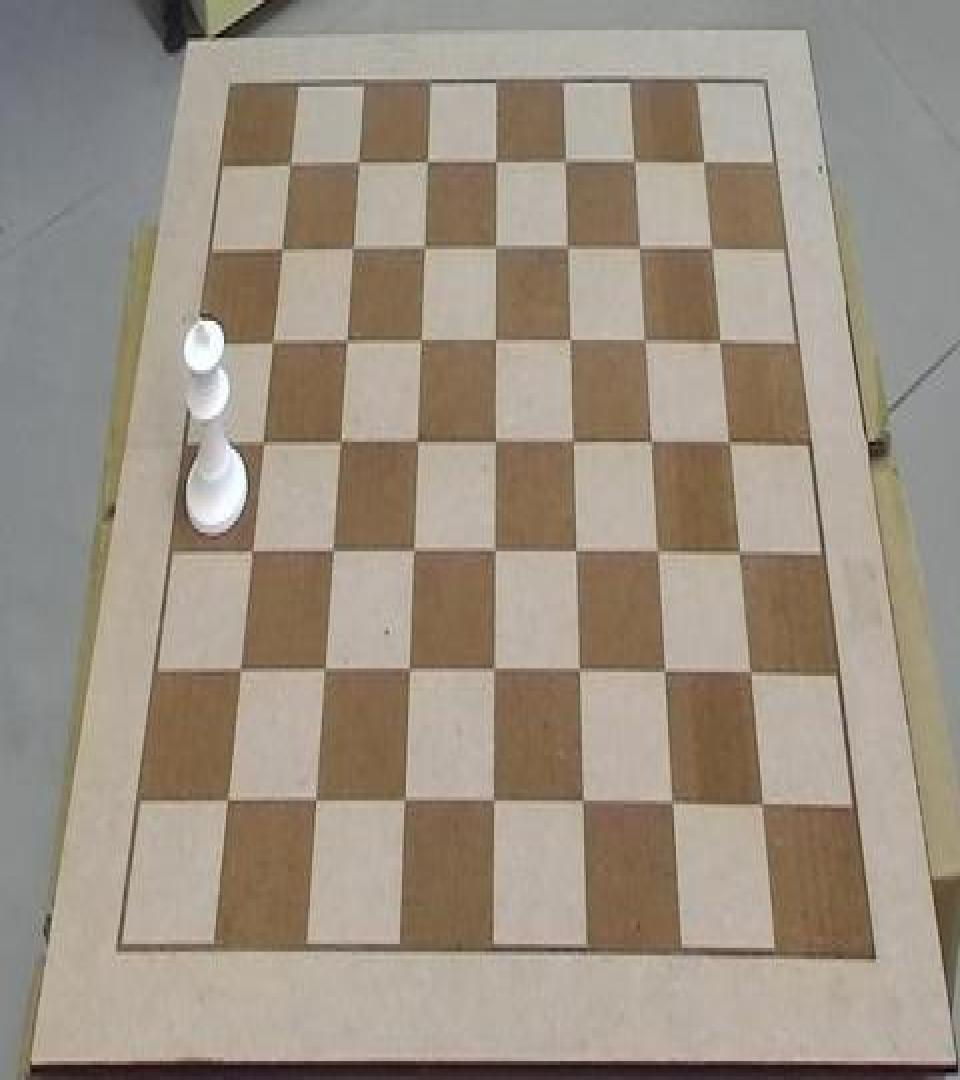xcorner: (691, 139, 711, 178), (622, 139, 642, 178), (553, 142, 573, 180), (484, 142, 504, 180), (415, 144, 435, 182), (347, 144, 367, 182), (279, 146, 299, 184), (699, 224, 719, 262), (627, 226, 647, 264), (555, 226, 575, 264), (484, 226, 504, 264), (412, 228, 432, 266), (342, 228, 362, 266), (271, 230, 291, 268), (708, 317, 728, 355), (633, 319, 653, 357), (558, 319, 578, 357), (483, 319, 503, 357), (409, 321, 429, 359), (335, 321, 355, 359), (262, 321, 282, 359), (718, 419, 738, 457), (639, 419, 659, 457), (561, 421, 581, 459), (483, 421, 503, 459), (406, 421, 426, 459), (329, 421, 349, 459), (252, 423, 272, 461), (729, 530, 749, 568), (646, 530, 666, 568), (564, 530, 584, 568), (483, 530, 503, 568), (402, 530, 422, 568), (321, 530, 341, 568), (241, 530, 261, 568), (740, 653, 760, 691), (654, 652, 674, 690), (568, 652, 588, 690), (483, 652, 503, 690), (398, 652, 418, 690), (313, 652, 333, 690), (229, 652, 249, 690), (753, 787, 773, 825), (662, 786, 682, 824), (572, 786, 592, 824), (482, 786, 502, 824), (393, 784, 413, 822), (304, 784, 324, 822), (216, 784, 236, 822)
